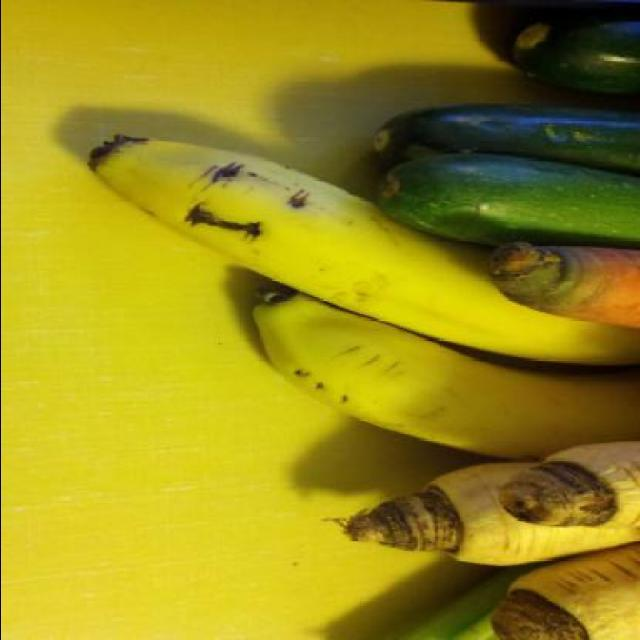Banana: (73, 136, 624, 347), (248, 286, 640, 464)
